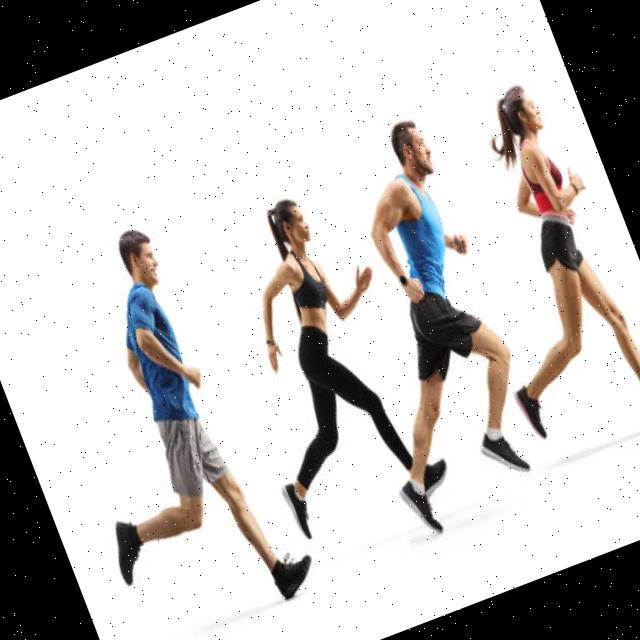Person: (8, 211, 322, 640), (276, 116, 562, 542), (184, 178, 454, 542), (412, 68, 640, 474)
